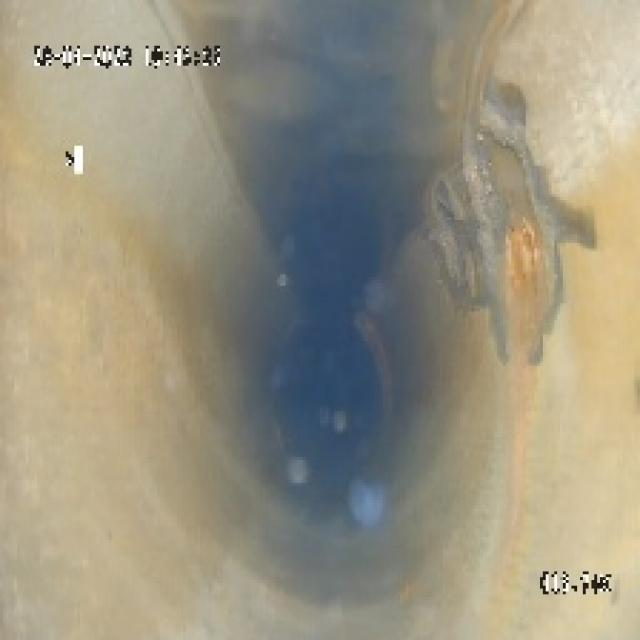pipe_surface_damage: (420, 94, 574, 360)
